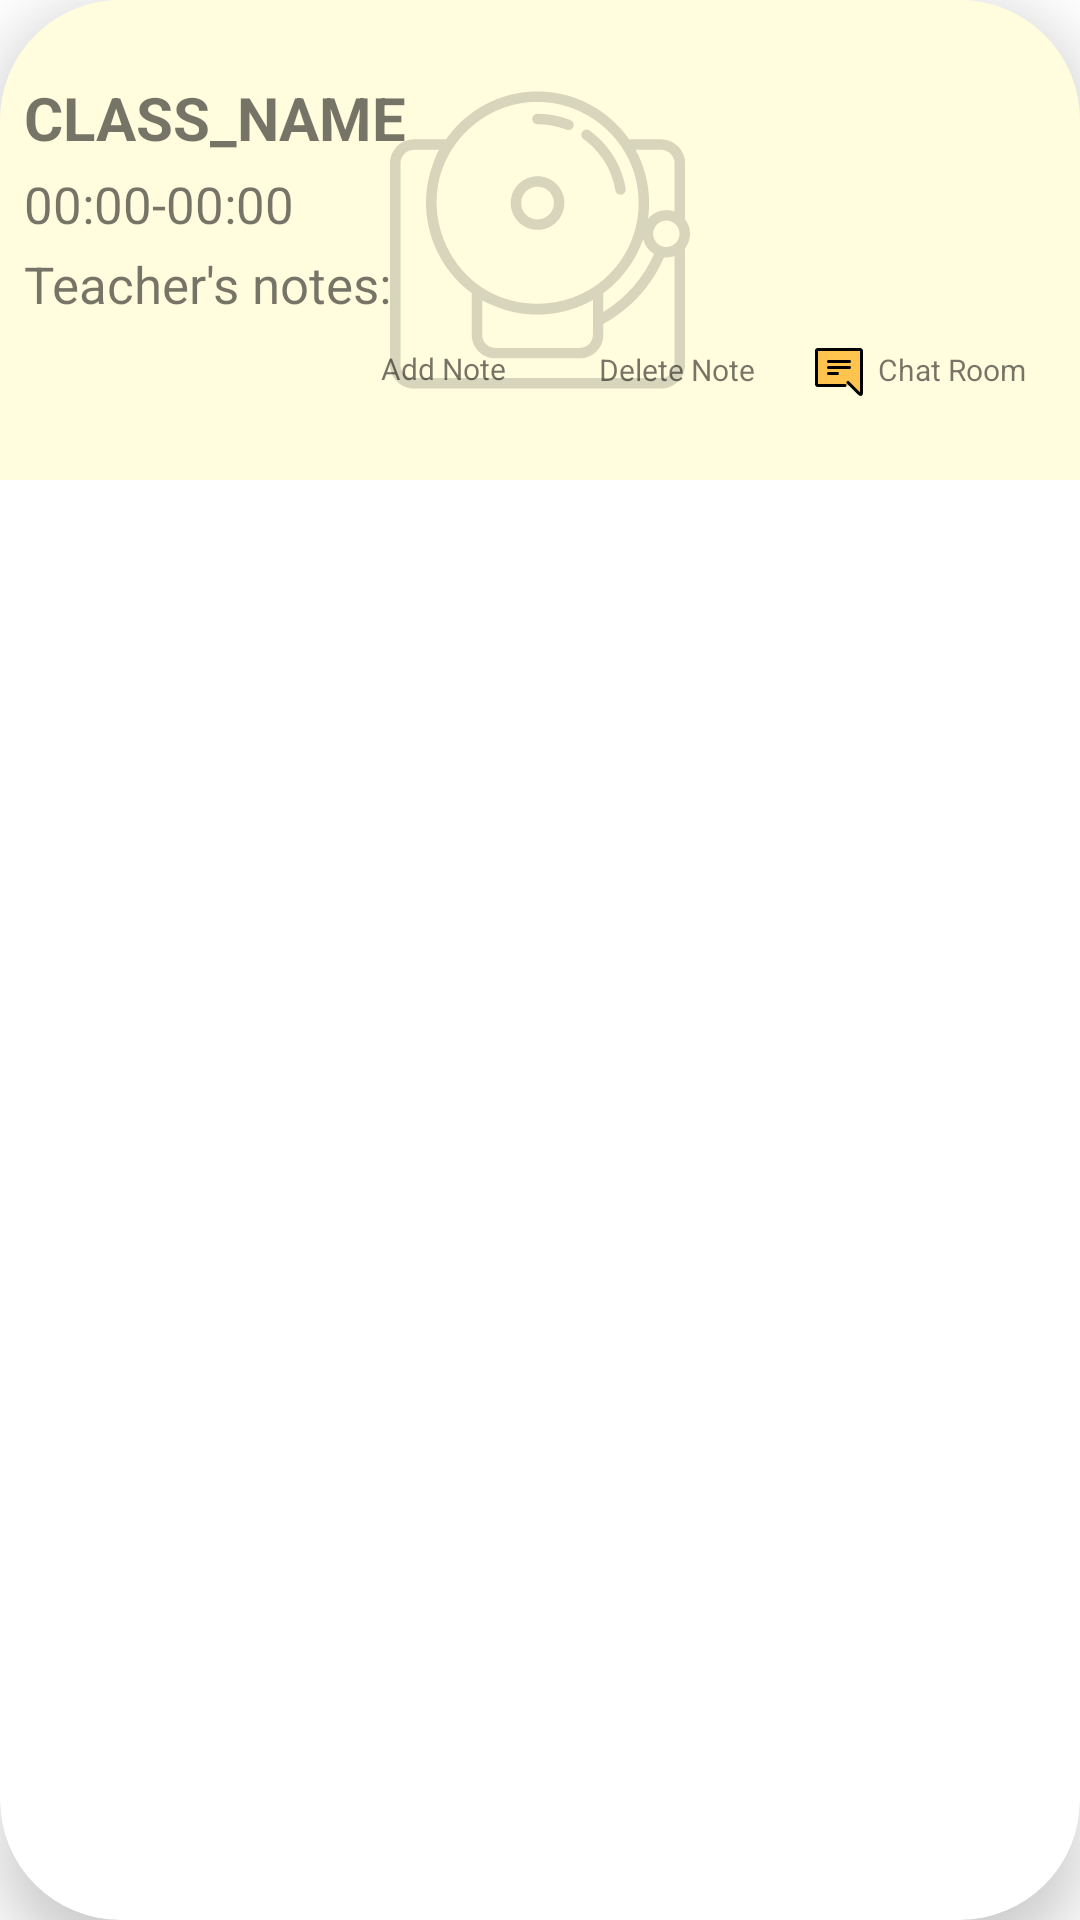

Named icons in this screenshot (1080px×1920px) and their bounding boxes, (left=x1, top=y1, right=x2, bottom=y2):
commentsection: (left=815, top=348, right=863, bottom=396)
